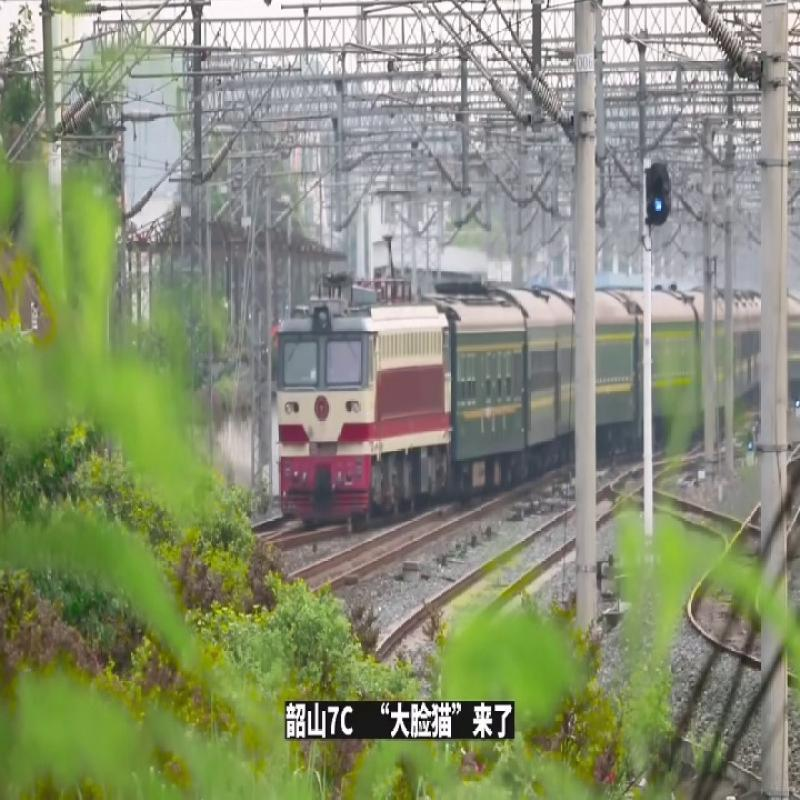train: (267, 271, 769, 503)
